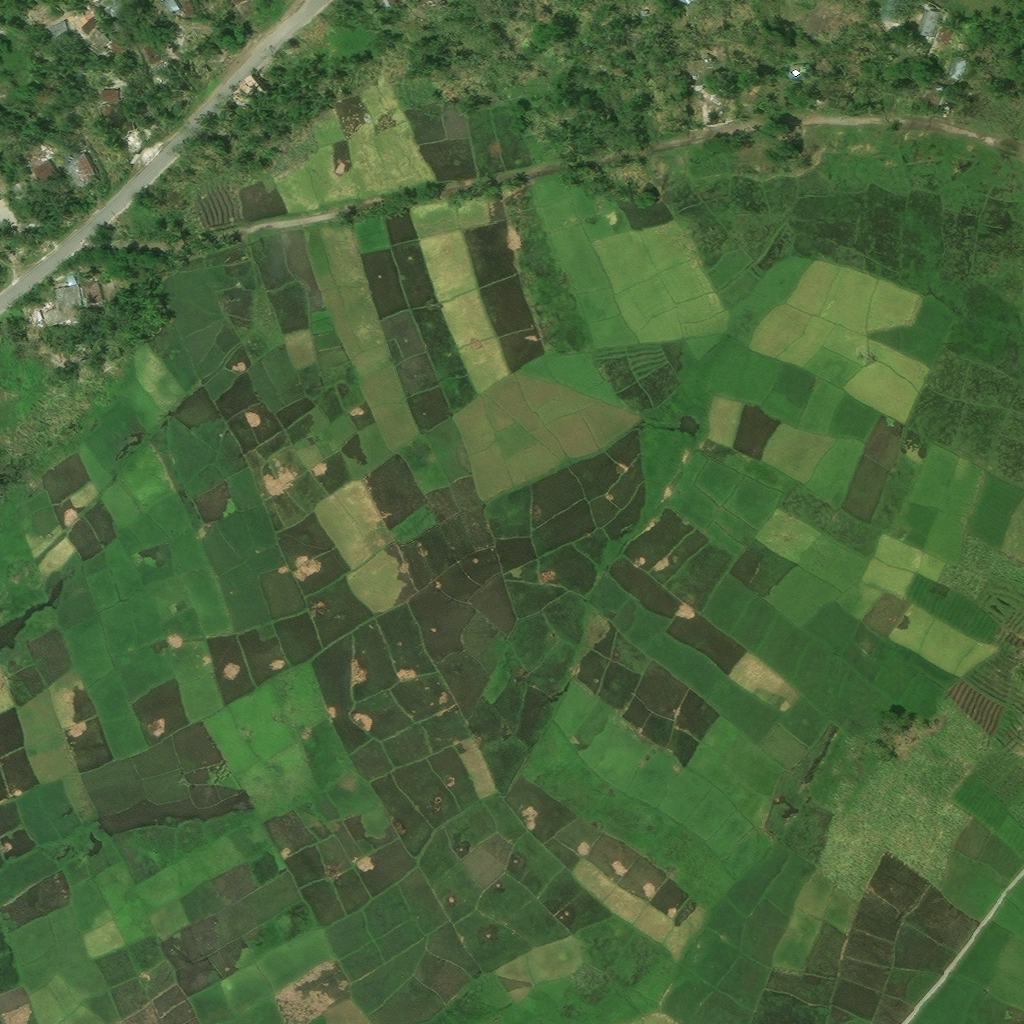destroyed: (54, 146, 92, 186)
major_damage: (51, 272, 86, 326), (40, 304, 60, 326)
minor_damage: (684, 56, 720, 94), (21, 156, 51, 184), (911, 5, 936, 34), (47, 17, 70, 43), (139, 40, 159, 63), (83, 282, 103, 305), (78, 14, 95, 31), (931, 22, 947, 40), (162, 0, 180, 12)
no_damage: (94, 84, 114, 97)
unclassified: (2, 175, 40, 224), (94, 94, 129, 132), (78, 25, 108, 59), (920, 76, 942, 103), (875, 0, 899, 21), (277, 66, 299, 87), (99, 0, 122, 16), (43, 72, 62, 91), (63, 323, 80, 342), (180, 0, 191, 13), (234, 0, 246, 3)
